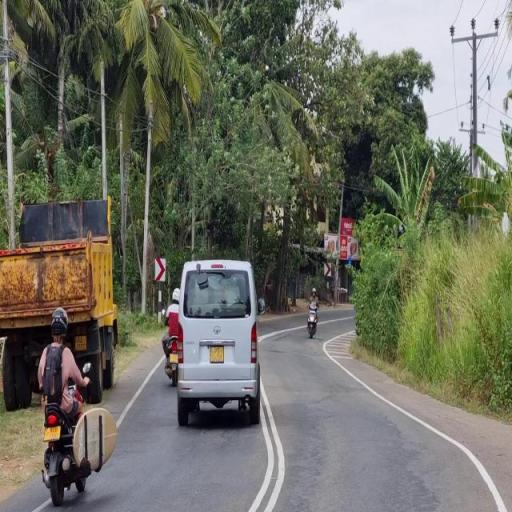double_white_line: (245, 387, 286, 512)
